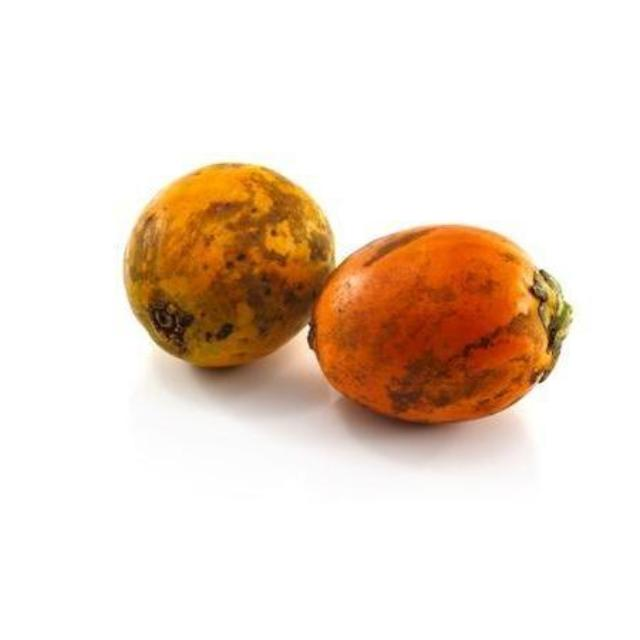good: (309, 225, 572, 426), (122, 162, 337, 372)
